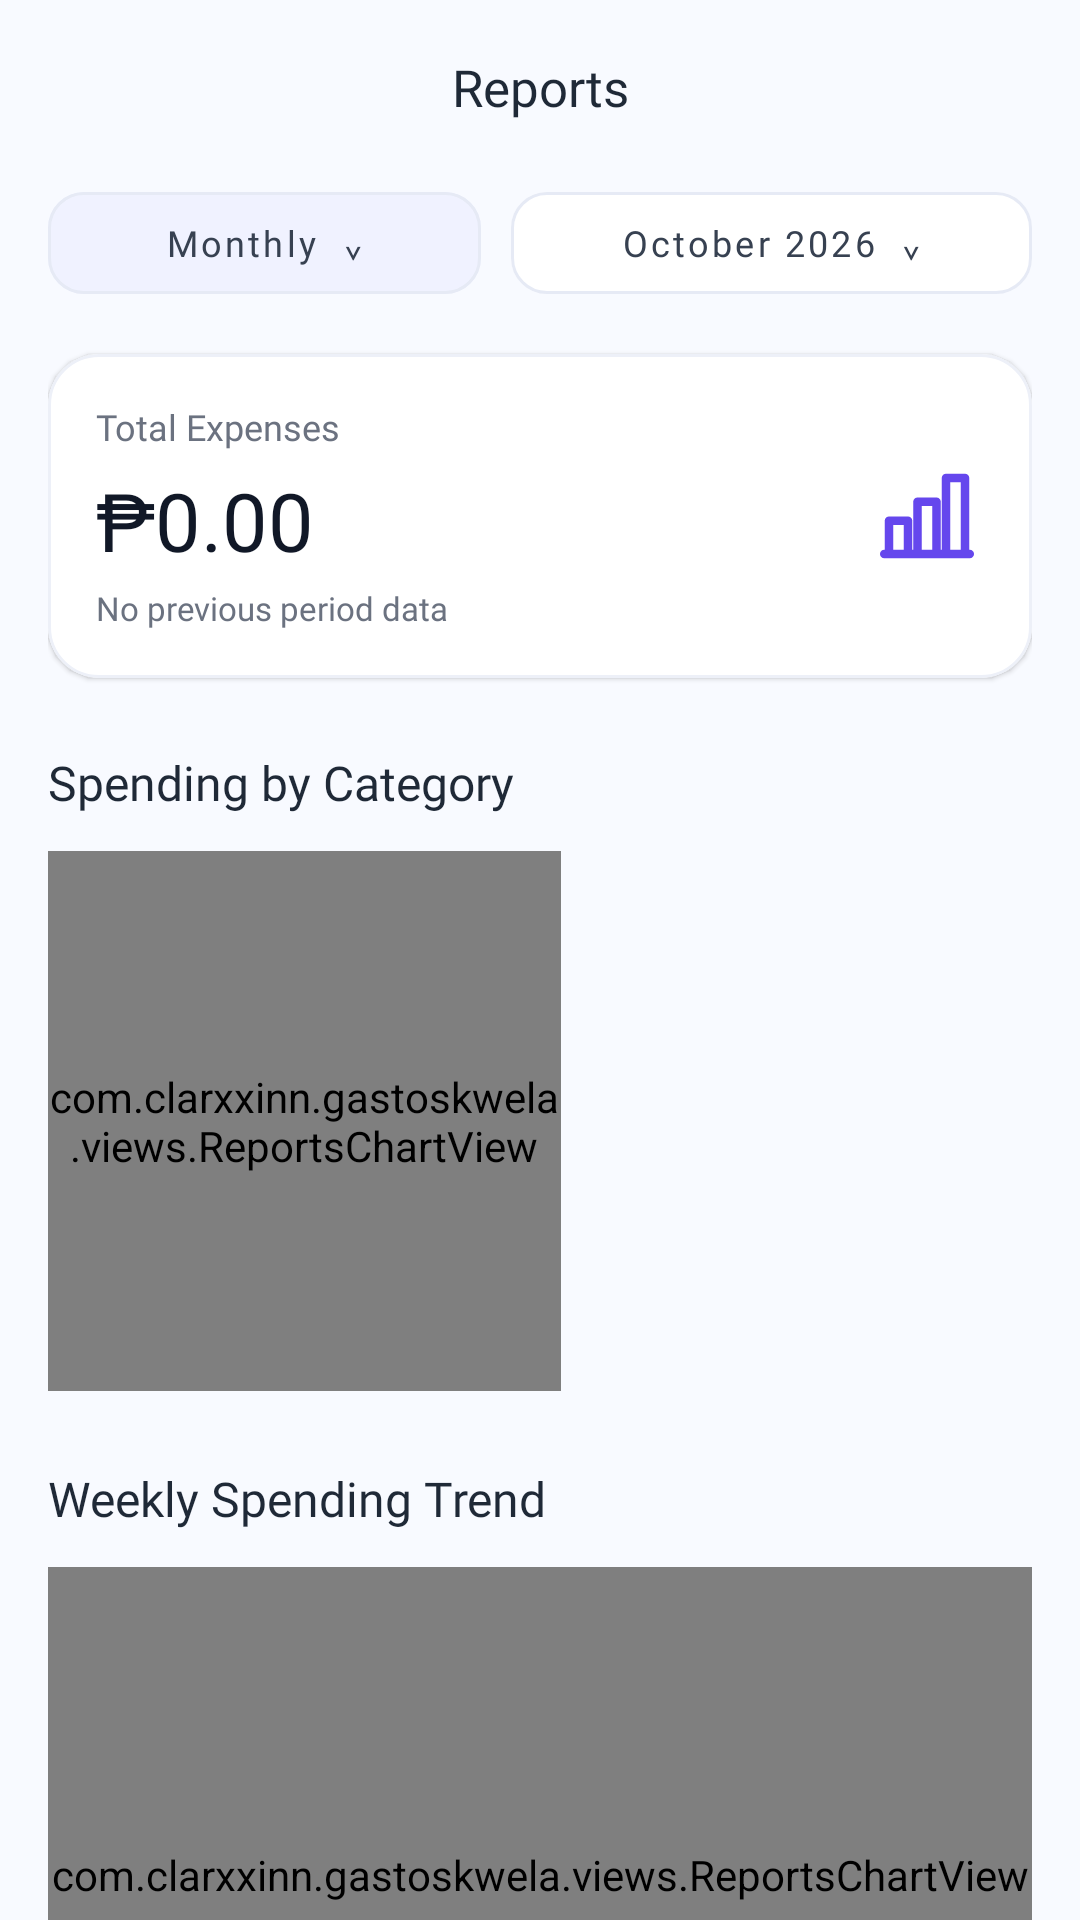

Icons on this 1080 x 1920 Android screen, each with its box as [x1,y1,x2,y2]:
Reports: [880,473,974,559]
